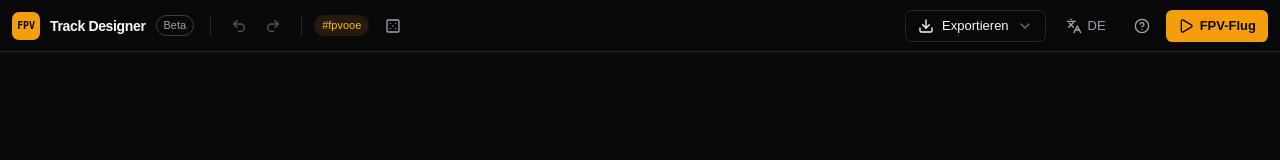
Test case: TopBar › switches header labels to English via the language toggle
This screenshot has width=1280, height=160.
Click the button with aria-label "Sprache auf Englisch umstellen" at x=1086, y=26, box [1054, 10, 1118, 42]
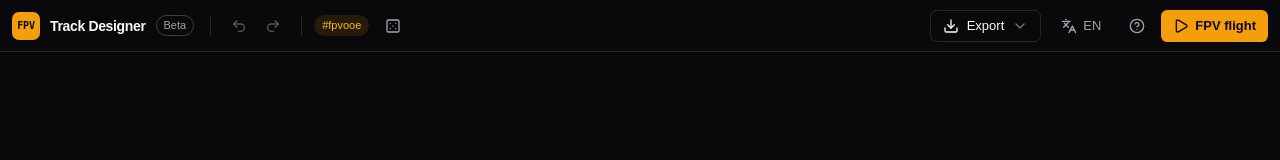
Now the button with aria-label "Switch language to German" is shown, box [1049, 10, 1113, 42]
Now the button "FPV flight" is shown, box [1161, 10, 1268, 42]
